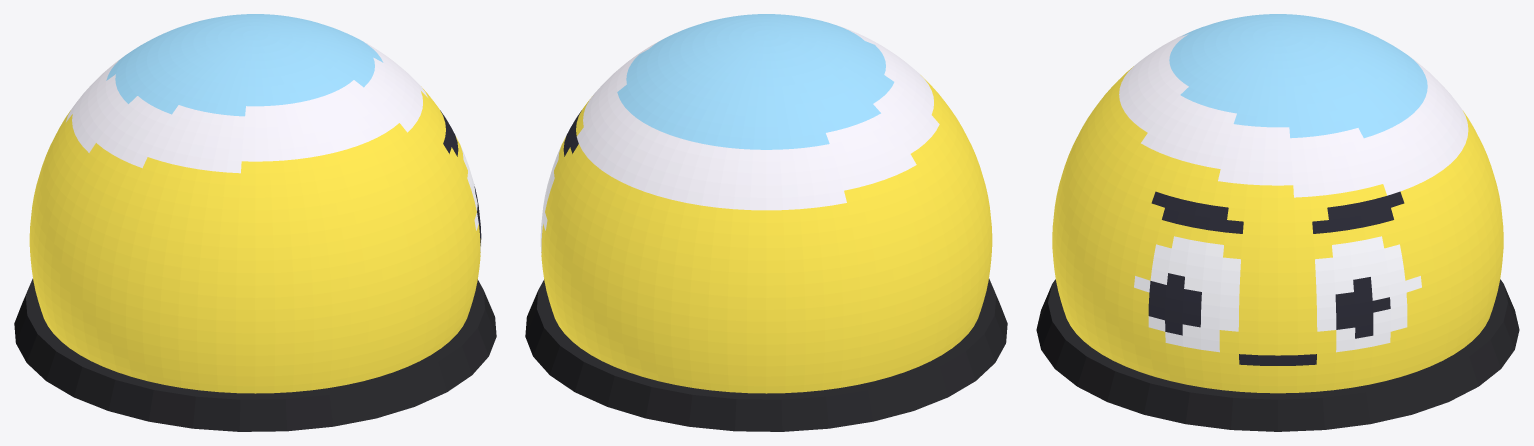
3 views of the same model, side by side, from view 1: azimuth 30°, elevation 25°; view 2: azimuth 150°, elevation 25°; view 3: azimuth 270°, elevation 25° (orthographic).
Visible parts, largest first — view 1: sphere; view 2: sphere; view 3: sphere.
Boxes of the visible parts, <box> form: sphere: <box>14,14,496,431</box>; sphere: <box>525,14,1007,431</box>; sphere: <box>1036,14,1519,431</box>.
Size of the model in its own units: 168 by 113 by 168.
